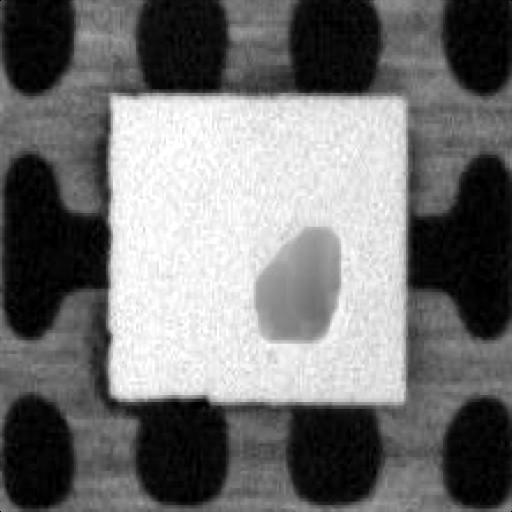DIE_INK: (353, 136, 512, 239)
